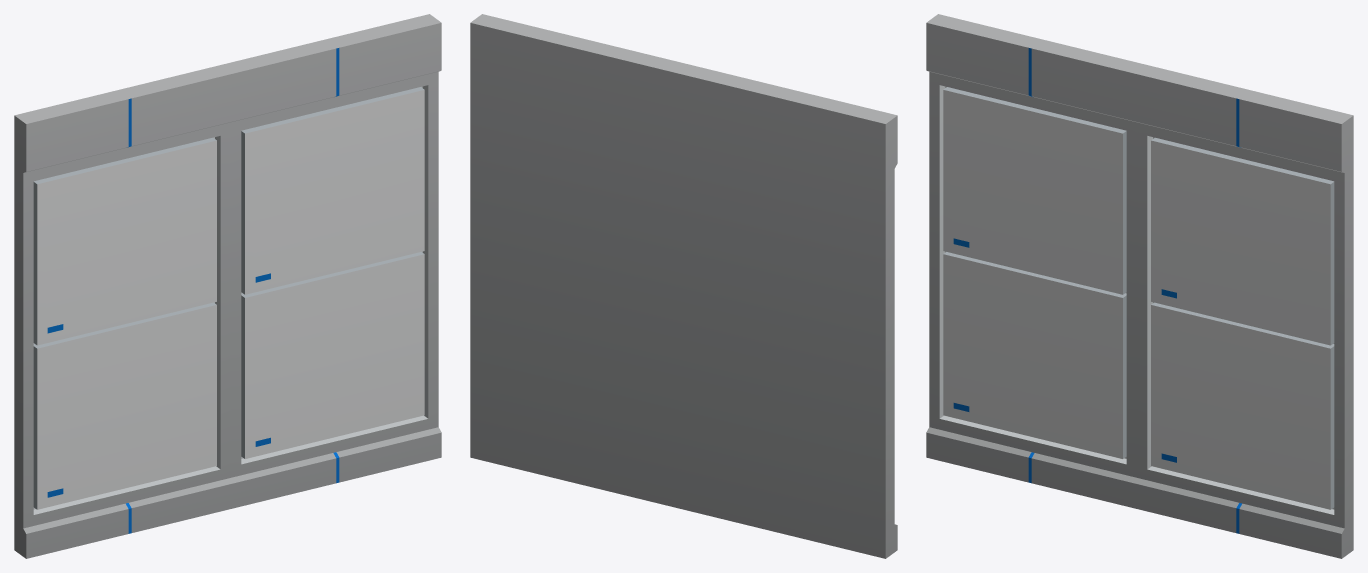
The model's file is Wall_type_A_008.fbx.
The picture shows the model from 3 angles, left to right: view 1: azimuth 30°, elevation 25°; view 2: azimuth 150°, elevation 25°; view 3: azimuth 330°, elevation 25°; orthographic projection.
Parts seen in each view (by area): view 1: Wall_type_A_008; view 2: Wall_type_A_008; view 3: Wall_type_A_008.
Part boxes in pixels (x1=…): Wall_type_A_008: x1=14, y1=14, x2=441, y2=558; Wall_type_A_008: x1=470, y1=14, x2=897, y2=558; Wall_type_A_008: x1=926, y1=14, x2=1353, y2=558.
Size of the model in its own units: 400 by 20 by 400.
